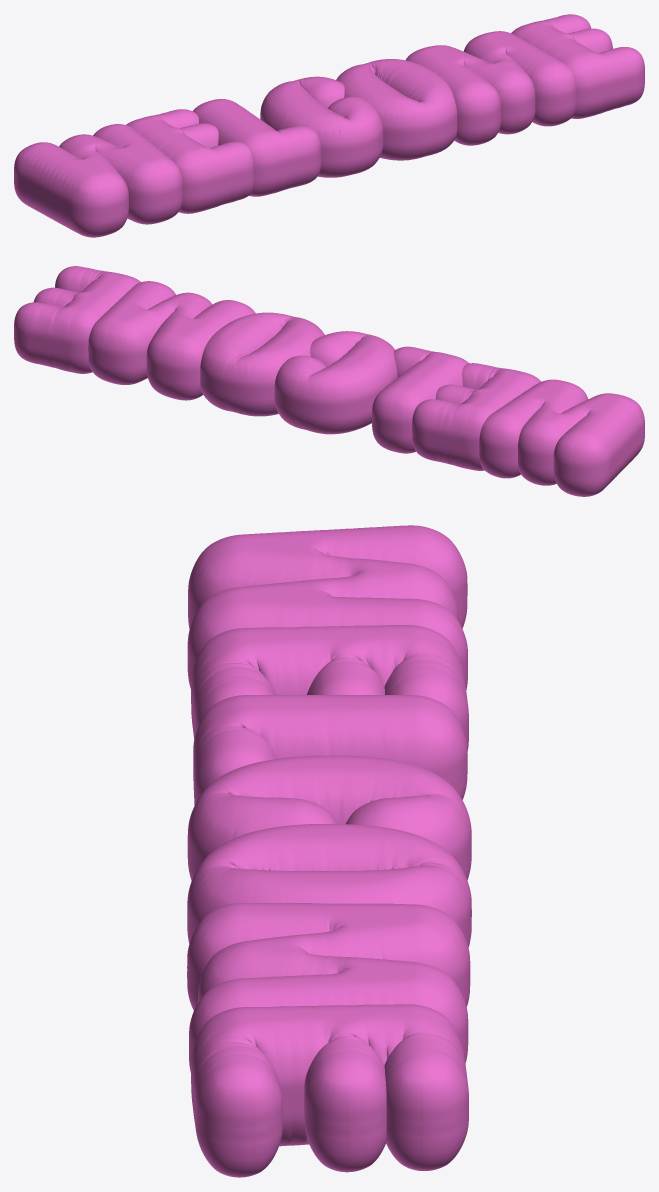
Rendered from welcome.glb.
3 renders of one model, top to bottom at view 1: azimuth 30°, elevation 25°; view 2: azimuth 150°, elevation 25°; view 3: azimuth 270°, elevation 25°, orthographic. The views are drawn at different scales.
Parts seen in each view (by area): view 1: Text; view 2: Text; view 3: Text.
Part boxes in pixels (bbox=[...]): Text: bbox=[14, 14, 644, 237]; Text: bbox=[14, 266, 644, 496]; Text: bbox=[187, 525, 471, 1177].
Size of the model in its own units: 3.74 by 0.3761 by 0.7922.
